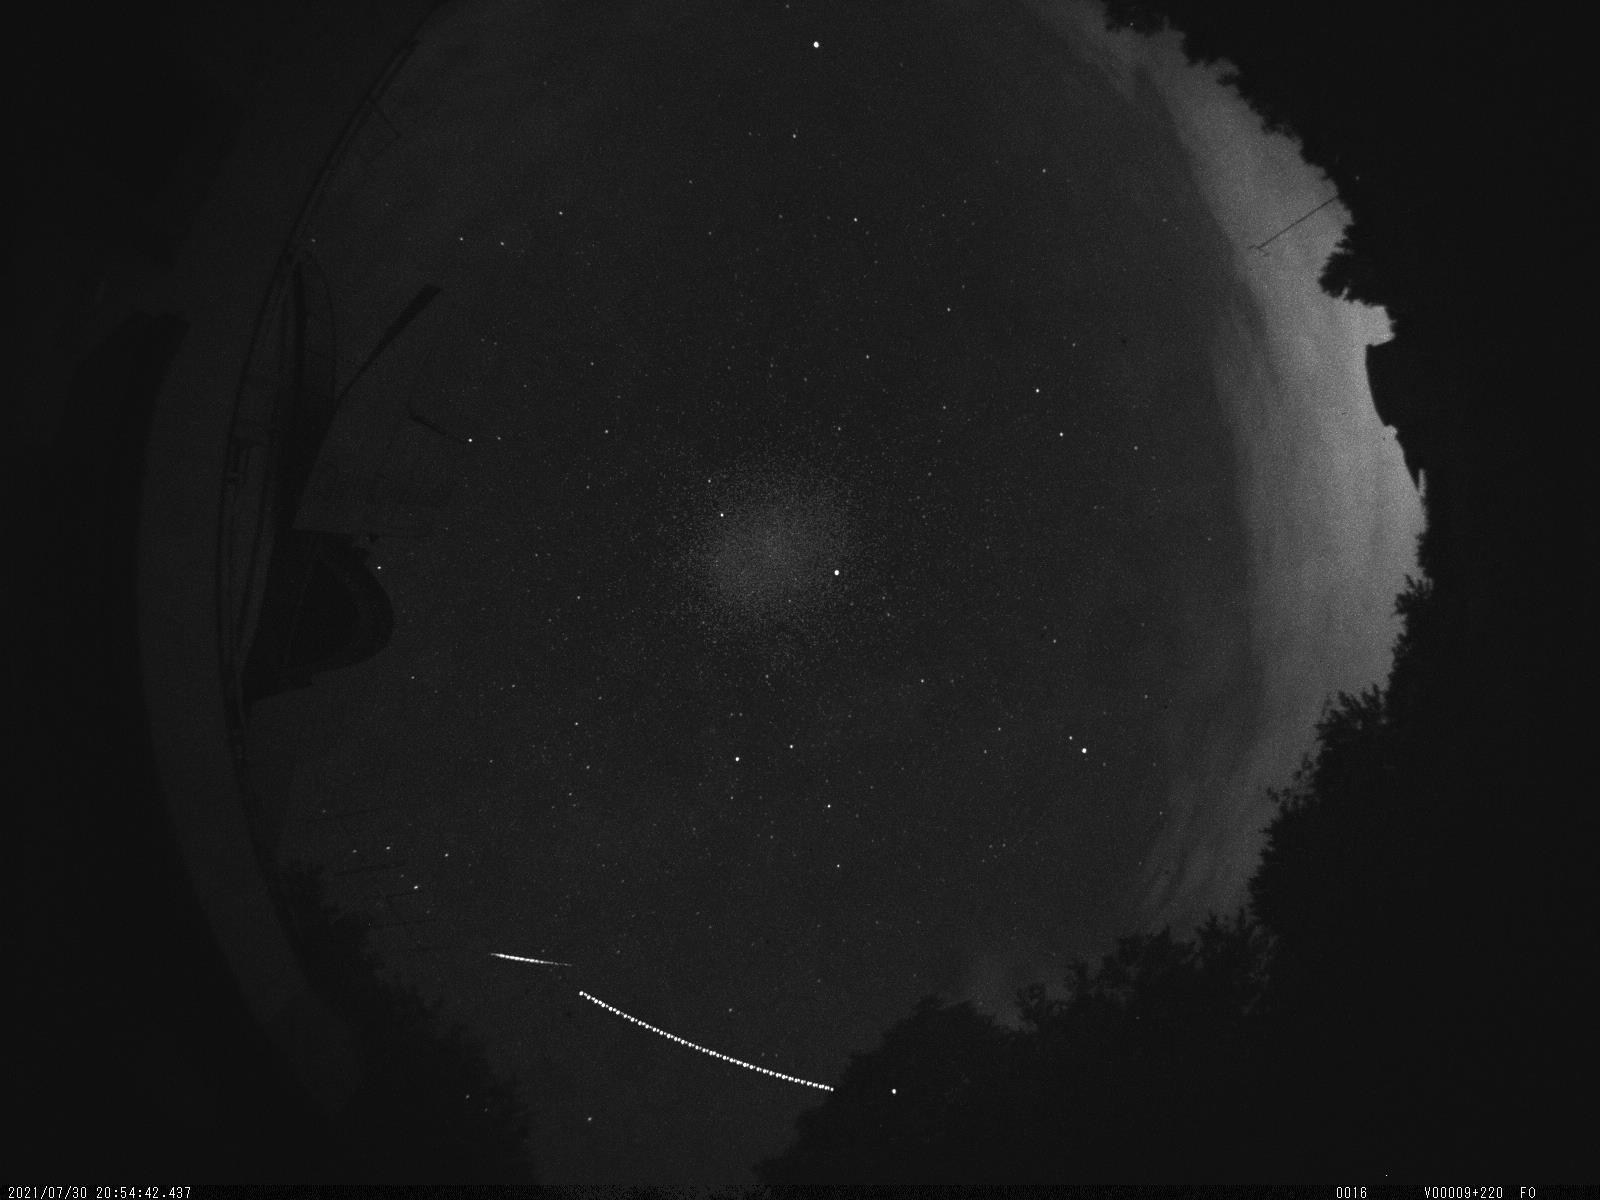Meteor: (479, 945, 592, 981)
